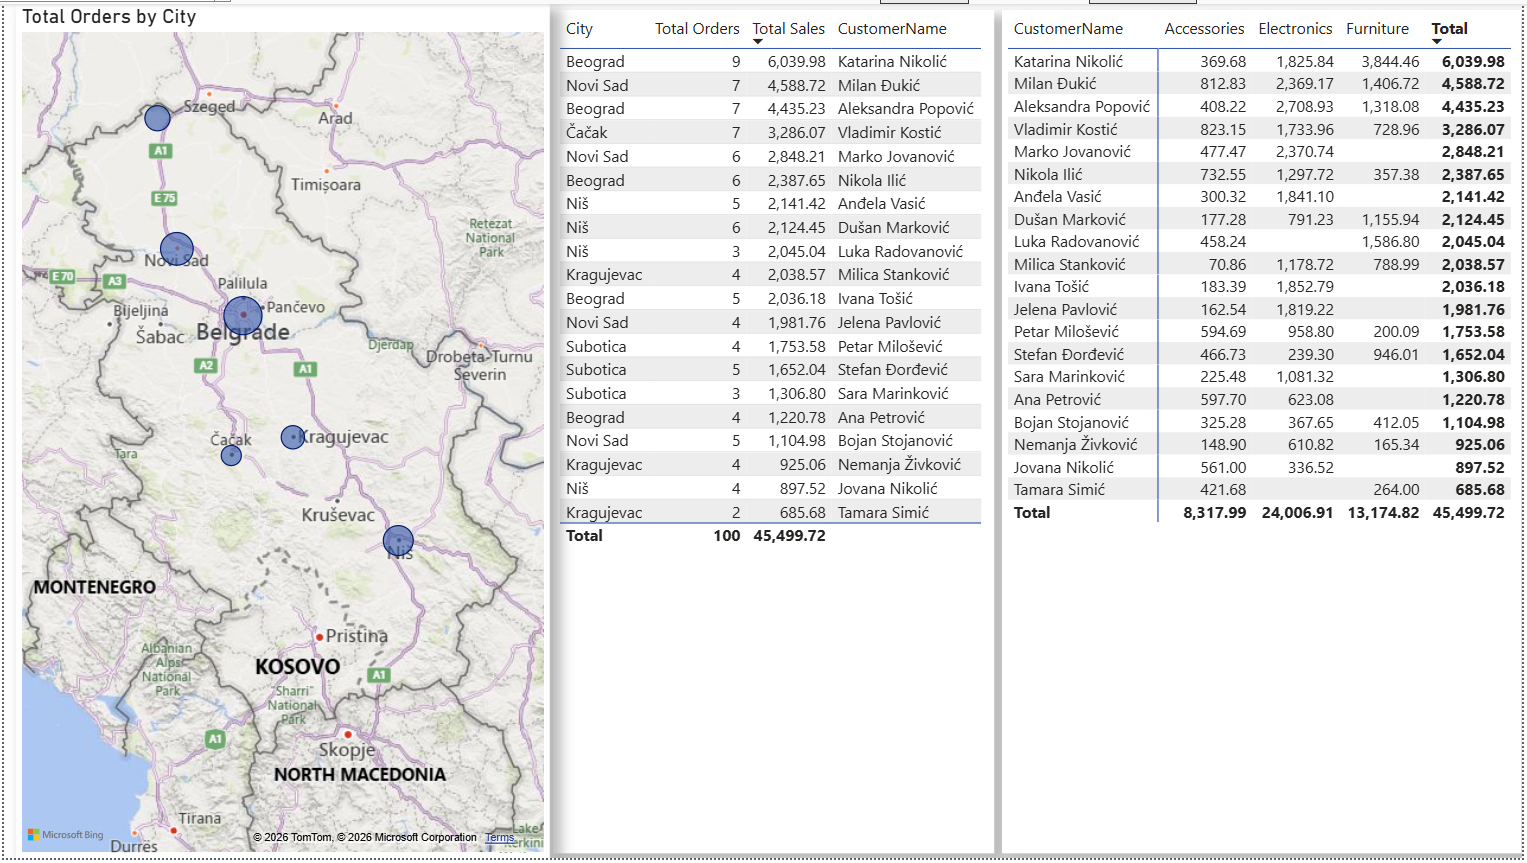

The page's visual inventory and layout, read from the dashboard file:
{"tool":"powerbi","page":{"name":"Customer Insights","canvas":[1280,720],"ordinal":2},"visuals":[{"type":"tableEx","fields":{"Values":["Customers.City","_Measures.Total Orders","_Measures.Total Sales","Customers.CustomerName"]},"box":[462.8,4.9,372.2,711.4],"z":0},{"type":"map","fields":{"Category":["Customers.City"],"Size":["_Measures.Total Orders"]},"box":[9.7,0,450,720.2],"z":1000},{"type":"pivotTable","fields":{"Rows":["Customers.CustomerName"],"Columns":["Products.Category"],"Values":["_Measures.Total Sales"]},"box":[841.7,4.9,438.3,711.4],"z":2000}]}

Visuals, with their boxes in screenshot pixels (x1, y1, x2, y2), scaled from the page's 1280x720 canvas onto the 1527x863 screenshot:
tableEx - Customers.City x _Measures.Total Orders: [552, 6, 996, 859]
map - Customers.City x _Measures.Total Orders: [12, 0, 548, 862]
pivotTable - Customers.CustomerName x Products.Category: [1004, 6, 1526, 859]
